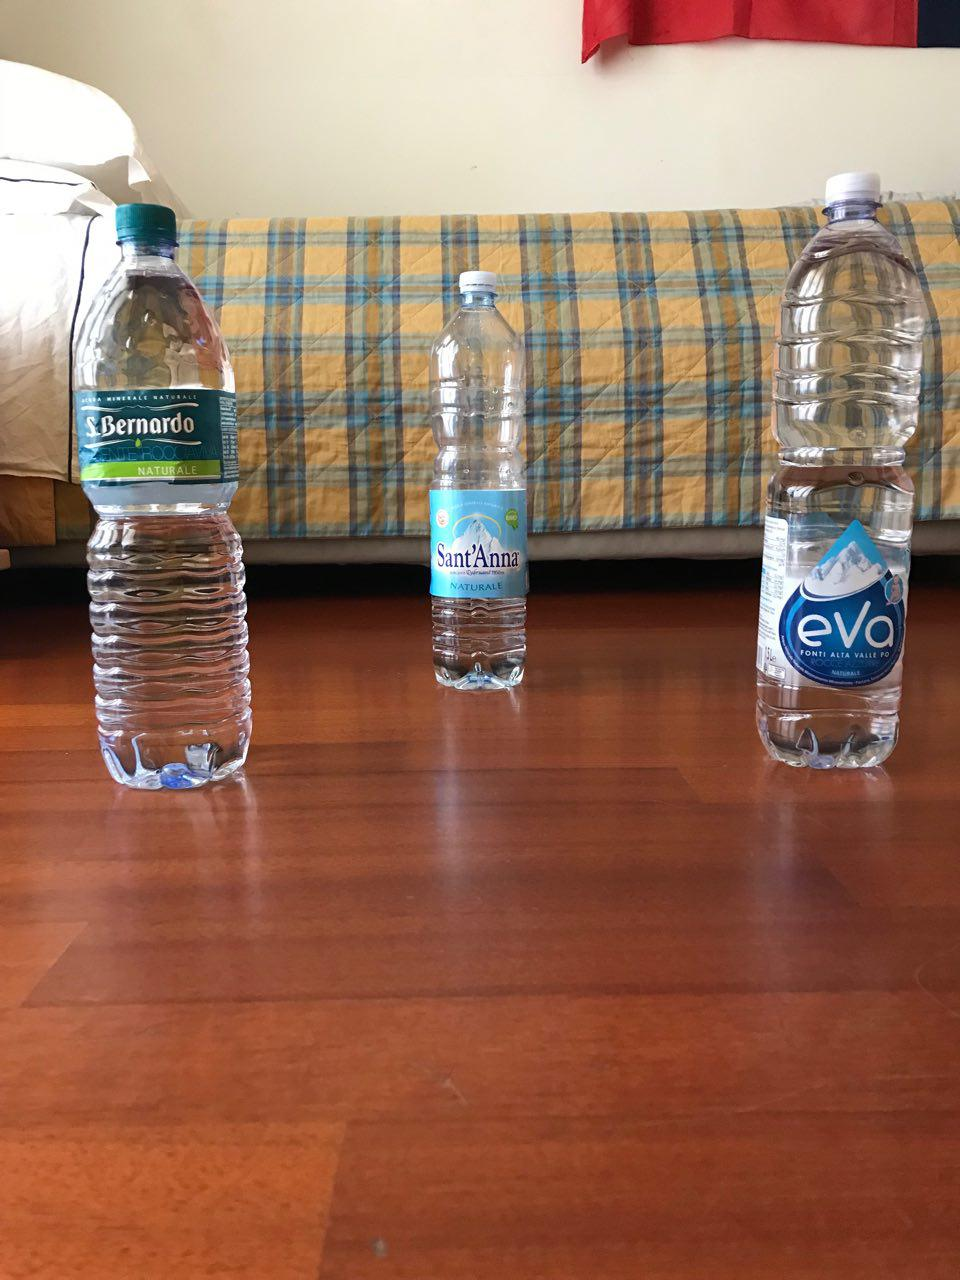san_bernardo: (72, 201, 253, 790)
